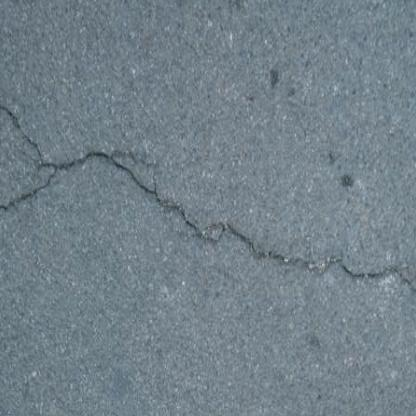Cracks: (0, 97, 416, 289)
